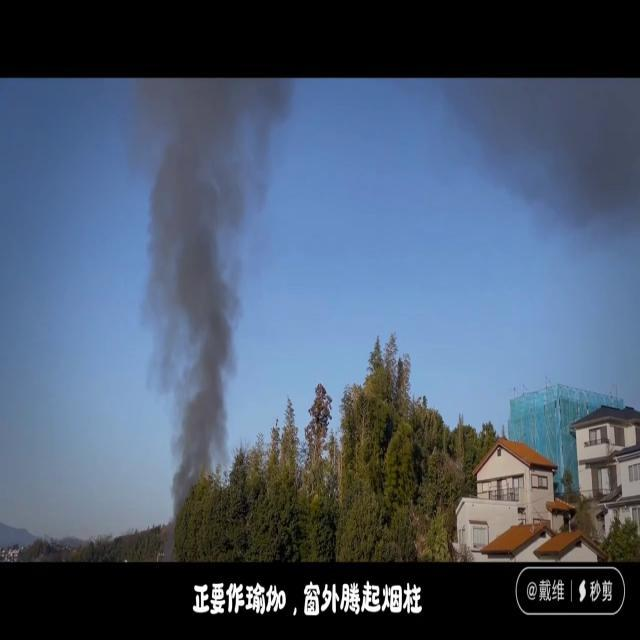Smoke: (132, 78, 282, 490)
